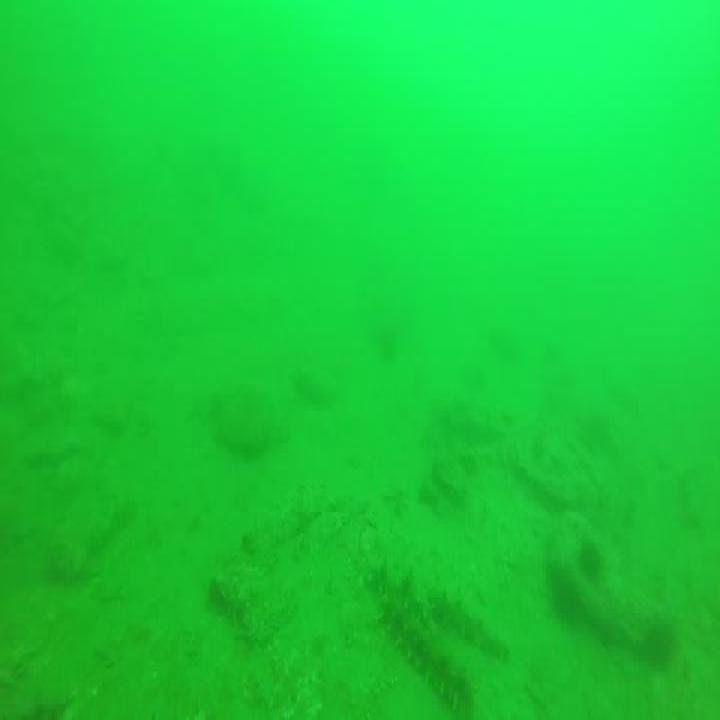echinus: (580, 544, 603, 578)
holothurian: (378, 602, 474, 708), (430, 594, 512, 658), (364, 562, 433, 627)
